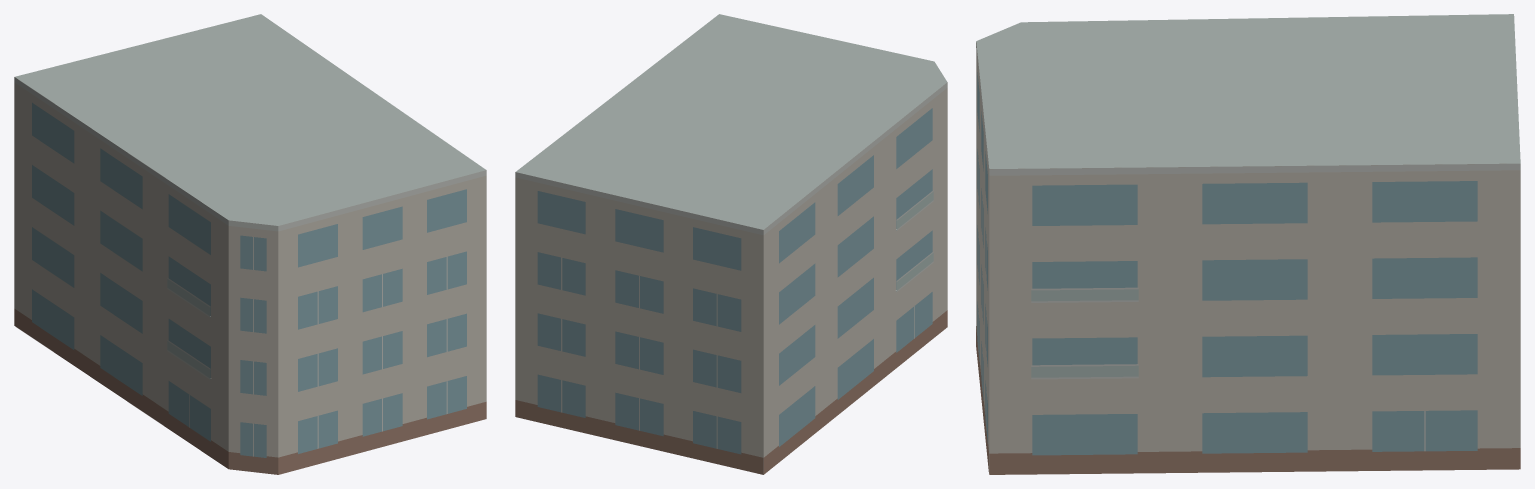
The model's file is survey-upis-32777910.glb.
3 views of the same model, side by side, from view 1: azimuth 30°, elevation 25°; view 2: azimuth 150°, elevation 25°; view 3: azimuth 270°, elevation 25° (orthographic). The views are drawn at different scales.
Visible parts, largest first — view 1: survey-upis-32777910.tmp; view 2: survey-upis-32777910.tmp; view 3: survey-upis-32777910.tmp.
Part boxes in pixels (x1,y1,x2,y2): survey-upis-32777910.tmp: [14, 14, 486, 474]; survey-upis-32777910.tmp: [515, 14, 947, 474]; survey-upis-32777910.tmp: [976, 14, 1520, 474].
Size of the model in its own units: 12.08 by 11.1 by 17.92.
